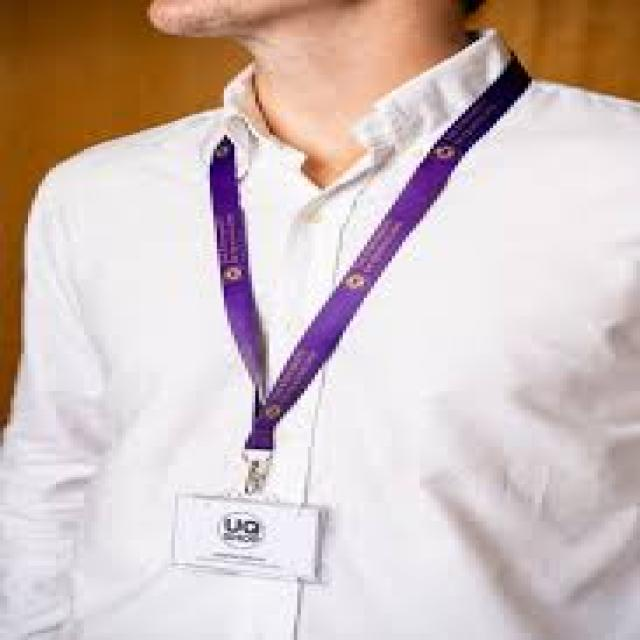id_card: (172, 118, 480, 582)
